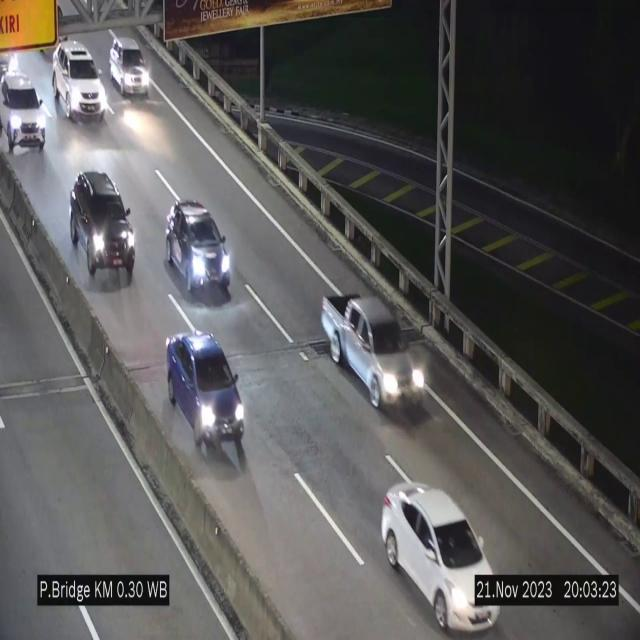Car: (380, 483, 500, 632), (318, 286, 428, 412), (167, 331, 245, 469), (66, 163, 138, 284), (166, 200, 232, 297), (52, 40, 106, 121), (0, 73, 51, 157), (109, 37, 151, 98)
